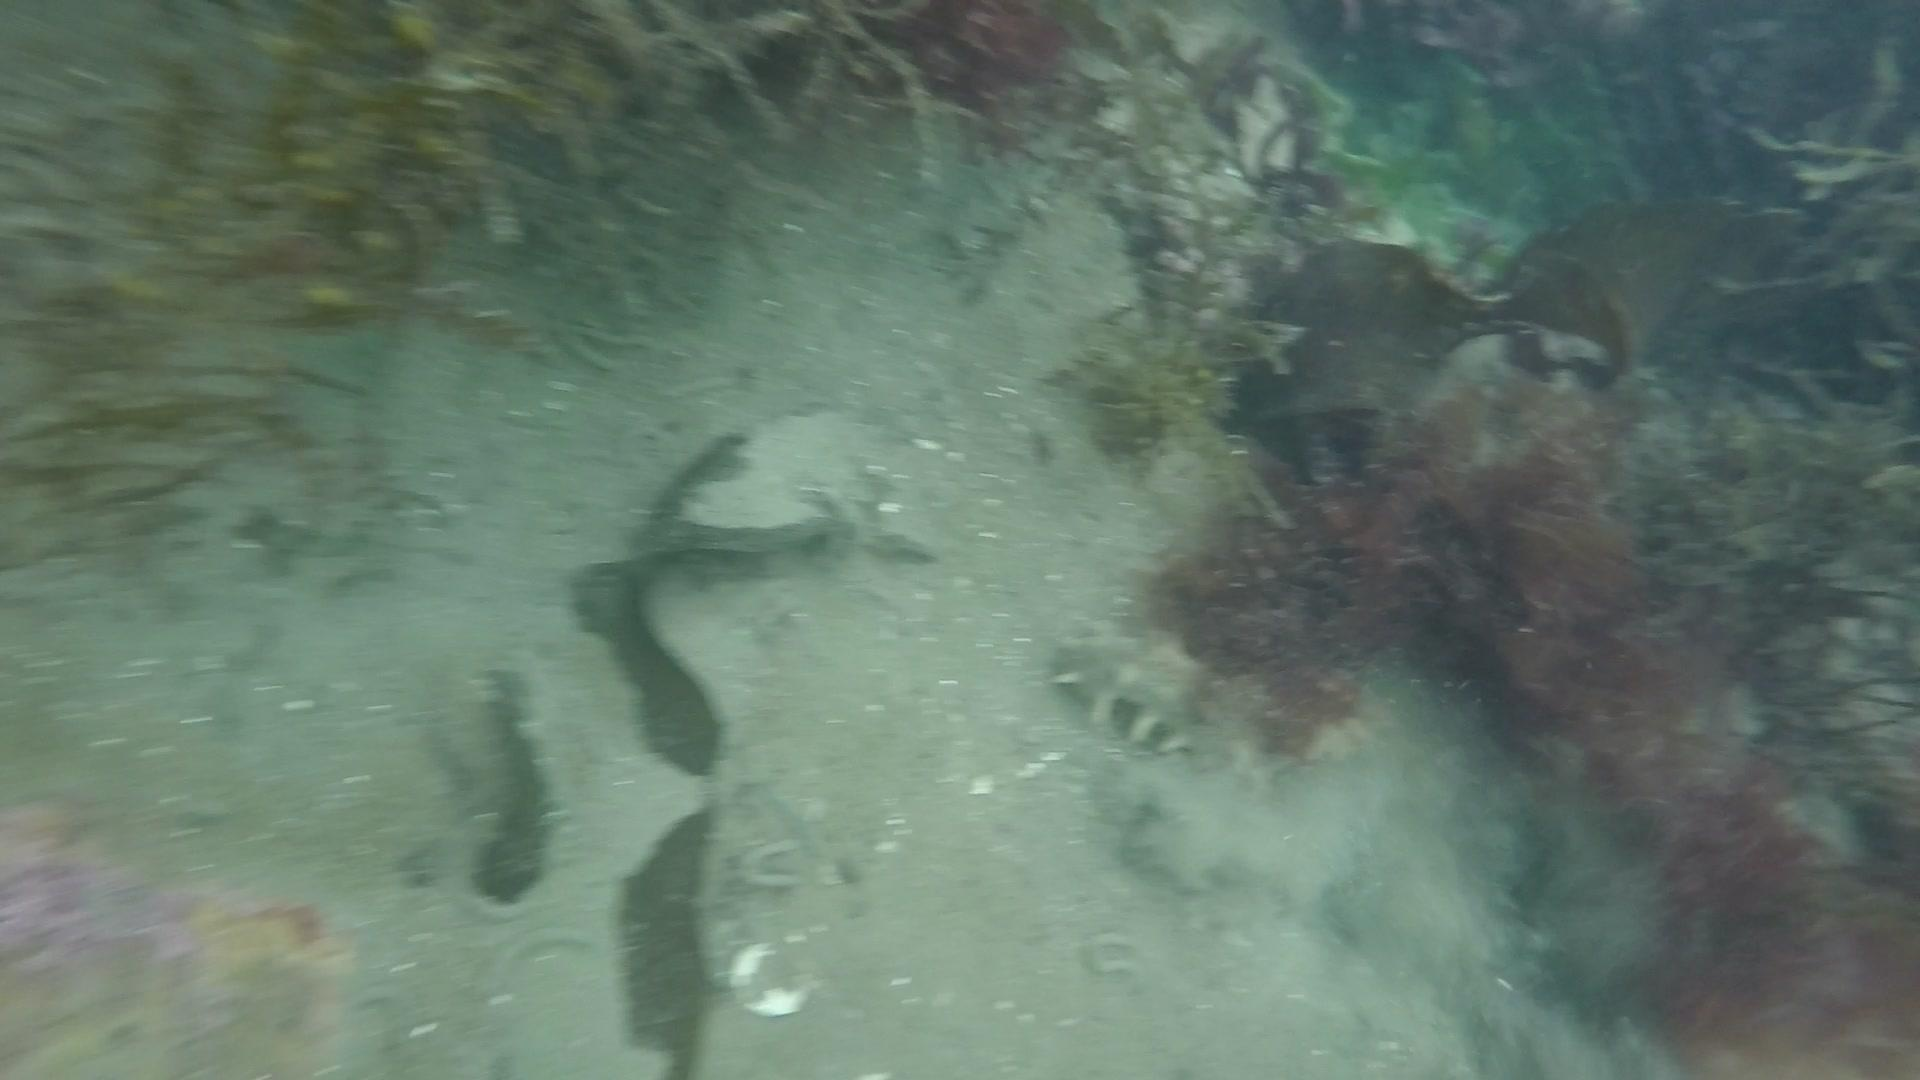holothurian: (1038, 618, 1300, 782)
